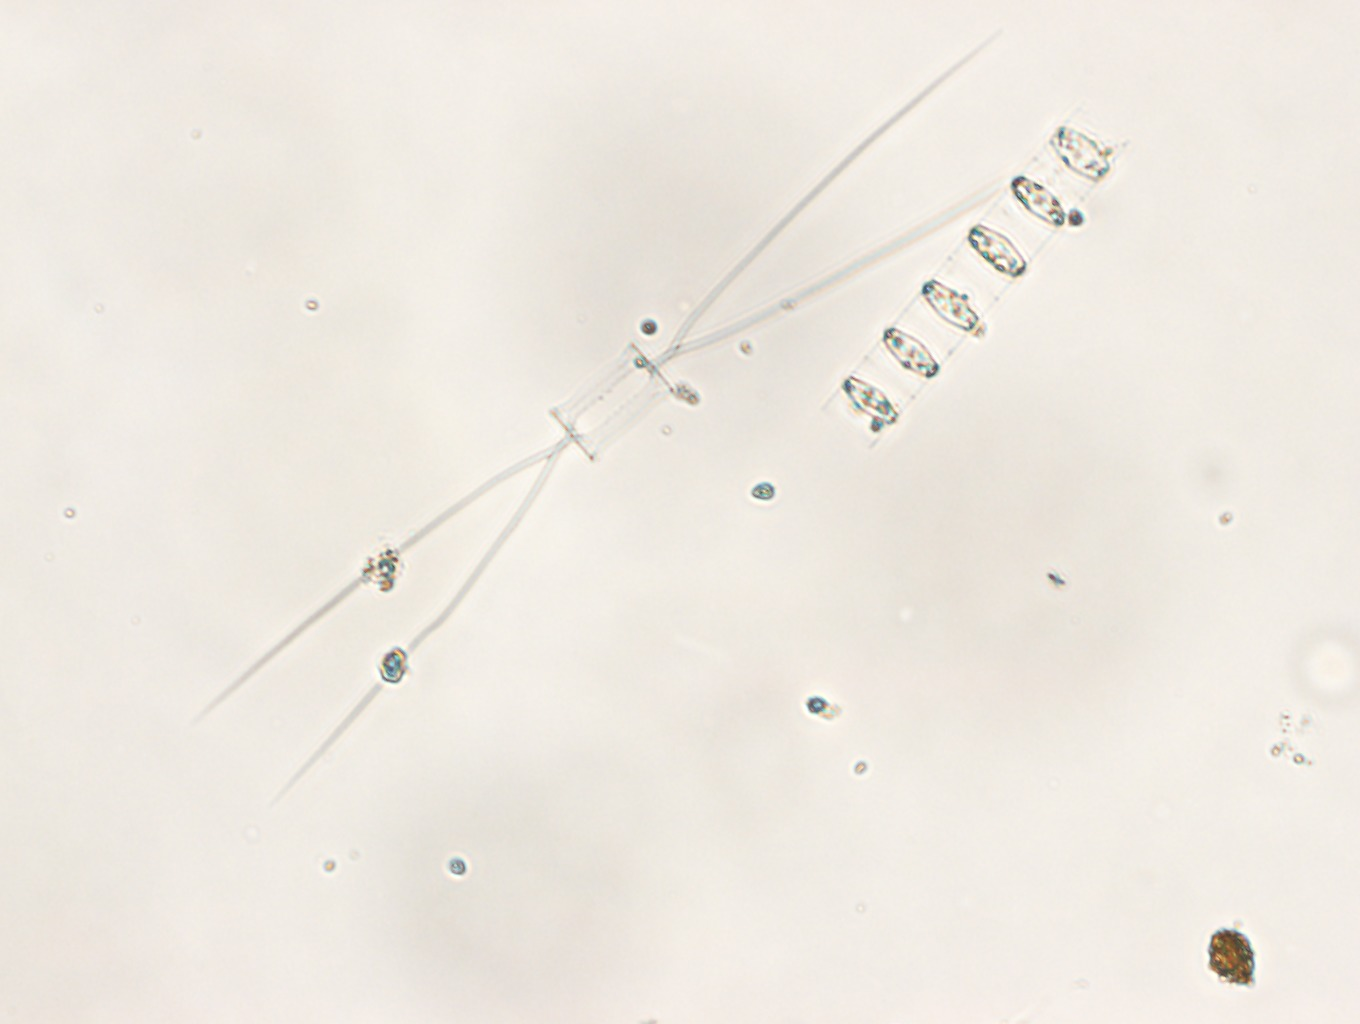chaetoceros: (197, 29, 1014, 799)
skeletonema: (820, 109, 1122, 450)
